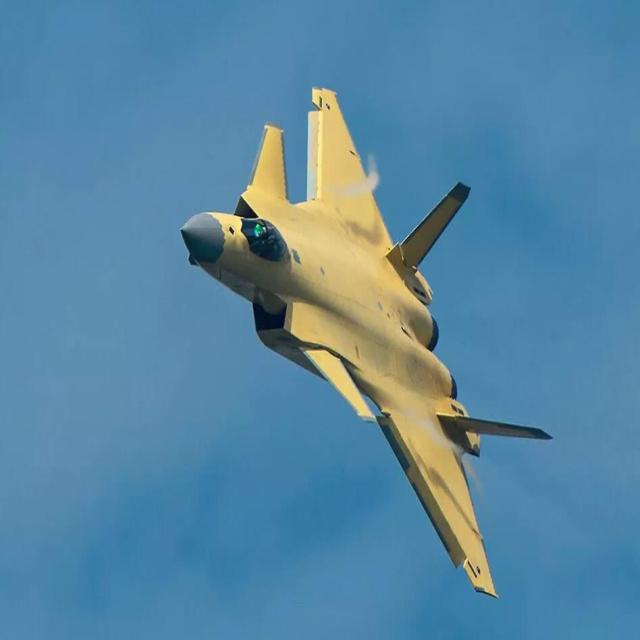MIL_Plane: (179, 84, 553, 600)
